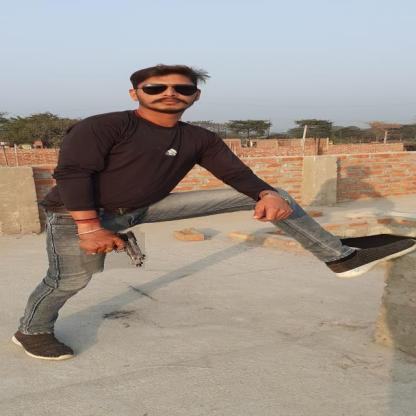handgun: (79, 229, 147, 272)
